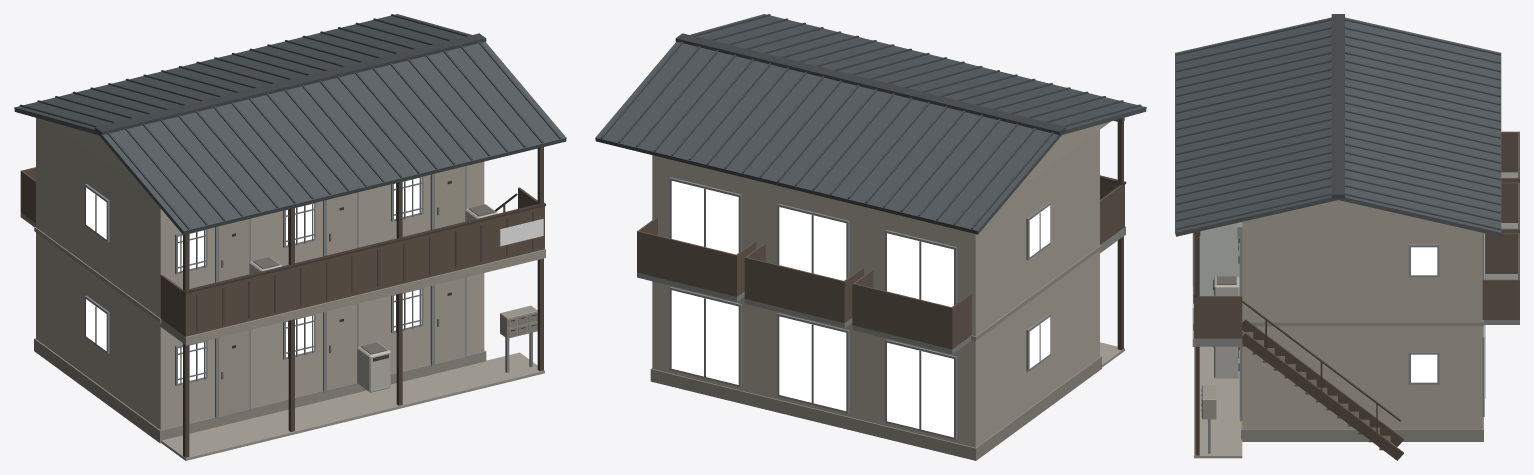
File: building_apartment_01.glb
The picture shows the model from 3 angles, left to right: view 1: azimuth 30°, elevation 25°; view 2: azimuth 150°, elevation 25°; view 3: azimuth 270°, elevation 25°; orthographic projection. The views are drawn at different scales.
Parts seen in each view (by area): view 1: building_apartment_01; view 2: building_apartment_01; view 3: building_apartment_01.
Boxes of the visible parts, x1=… form: building_apartment_01: x1=14, y1=14, x2=566, y2=460; building_apartment_01: x1=595, y1=14, x2=1146, y2=460; building_apartment_01: x1=1175, y1=14, x2=1519, y2=460.
Bounding box in the file's own units: 9.73 × 6.85 × 7.84.
